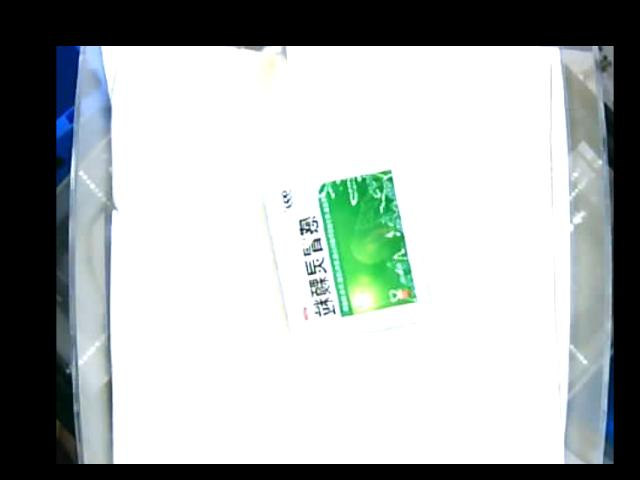Medicine: (259, 155, 427, 343)
